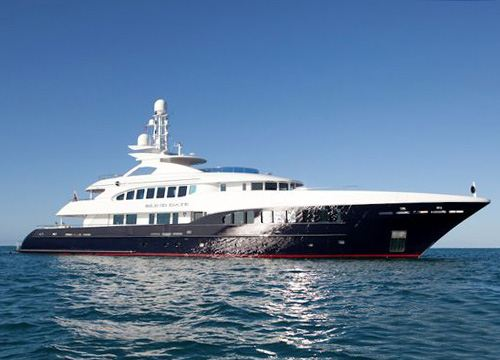yacht: (13, 95, 487, 262)
